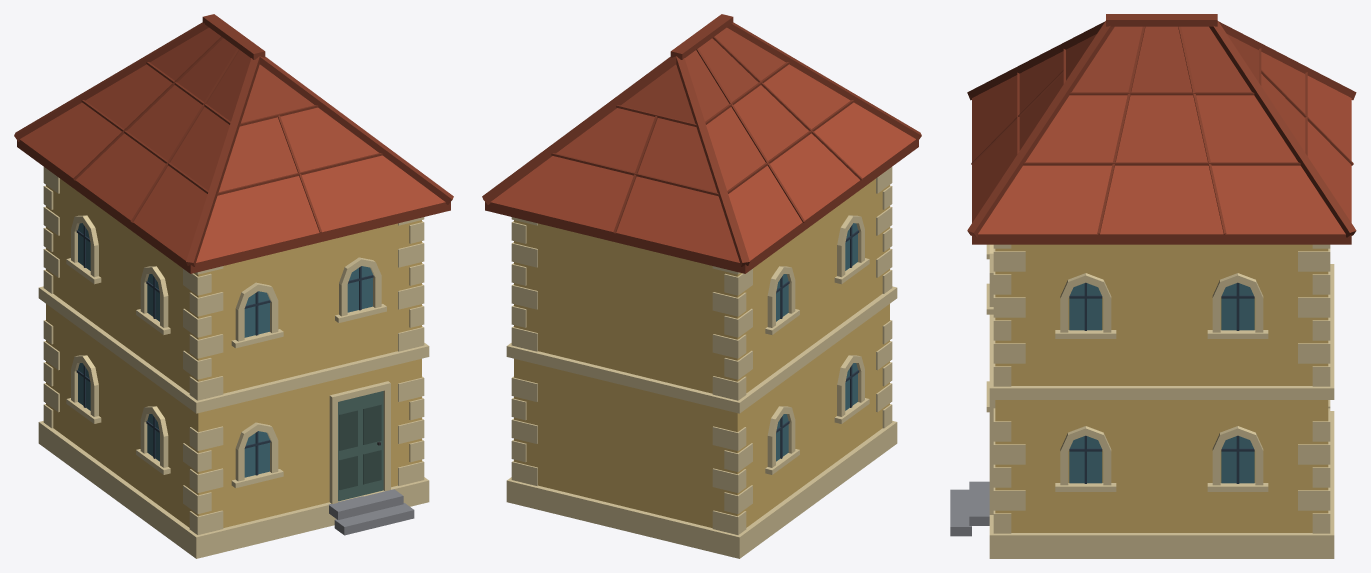
The model's file is residential house 2.fbx.
The picture shows the model from 3 angles, left to right: view 1: azimuth 30°, elevation 25°; view 2: azimuth 150°, elevation 25°; view 3: azimuth 270°, elevation 25°; orthographic projection. The views are drawn at different scales.
Parts seen in each view (by area): view 1: House_Body; view 2: House_Body; view 3: House_Body.
Part boxes in pixels (bbox=[...]): House_Body: bbox=[14, 14, 453, 558]; House_Body: bbox=[482, 14, 921, 558]; House_Body: bbox=[950, 14, 1356, 558].
Bounding box in the file's own units: 467 × 731 × 561.
